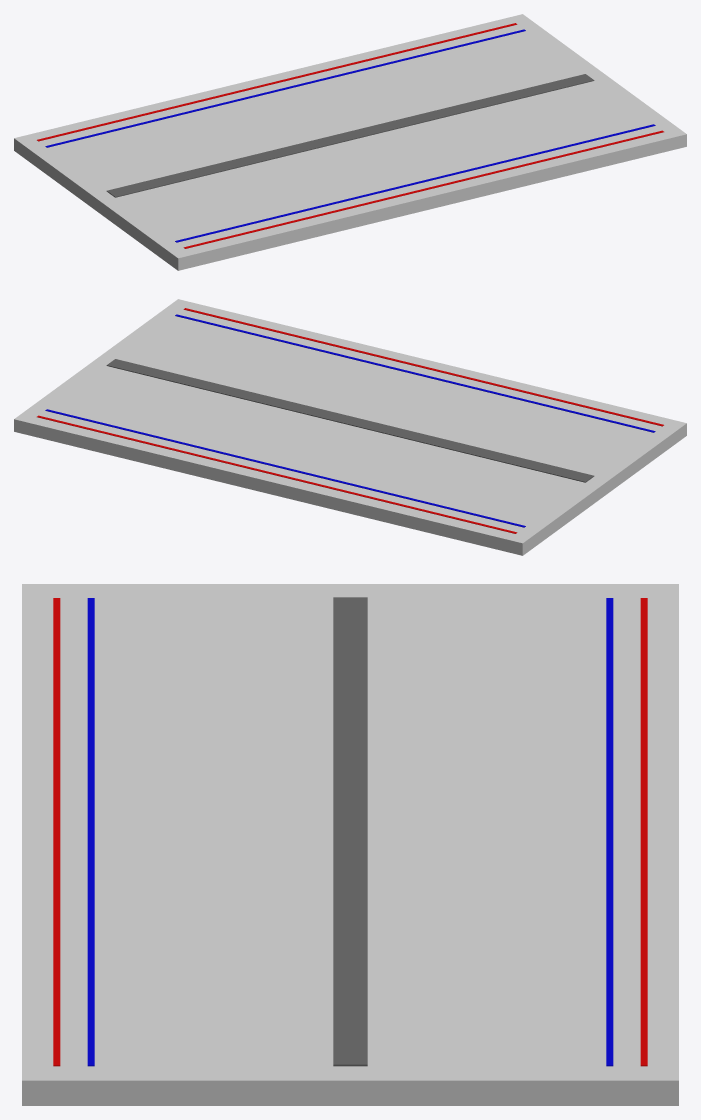
The model's file is breadboard.glb.
3 views of the same model, one above another, from view 1: azimuth 30°, elevation 25°; view 2: azimuth 150°, elevation 25°; view 3: azimuth 270°, elevation 25° (orthographic). The views are drawn at different scales.
Parts seen in each view (by area): view 1: geometry_0, geometry_1, geometry_2, geometry_5, geometry_3, geometry_4; view 2: geometry_0, geometry_1, geometry_3, geometry_4, geometry_5, geometry_2; view 3: geometry_0, geometry_1, geometry_2, geometry_3, geometry_4, geometry_5.
Boxes of the visible parts, box(x1,y1,x2,y2) form: geometry_0: box(14, 14, 686, 270); geometry_1: box(106, 74, 594, 197); geometry_2: box(45, 29, 525, 147); geometry_5: box(183, 130, 663, 248); geometry_3: box(37, 23, 517, 141); geometry_4: box(175, 124, 655, 242); geometry_0: box(14, 299, 686, 555); geometry_1: box(106, 359, 594, 482); geometry_3: box(37, 415, 517, 533); geometry_4: box(175, 314, 655, 432); geometry_5: box(183, 308, 663, 426); geometry_2: box(45, 409, 525, 527); geometry_0: box(22, 584, 678, 1105); geometry_1: box(333, 597, 367, 1066); geometry_2: box(606, 598, 613, 1066); geometry_3: box(640, 598, 647, 1066); geometry_4: box(87, 598, 94, 1066); geometry_5: box(53, 598, 60, 1066).
Bounding box in the file's own units: 34 × 0.85 × 19.
